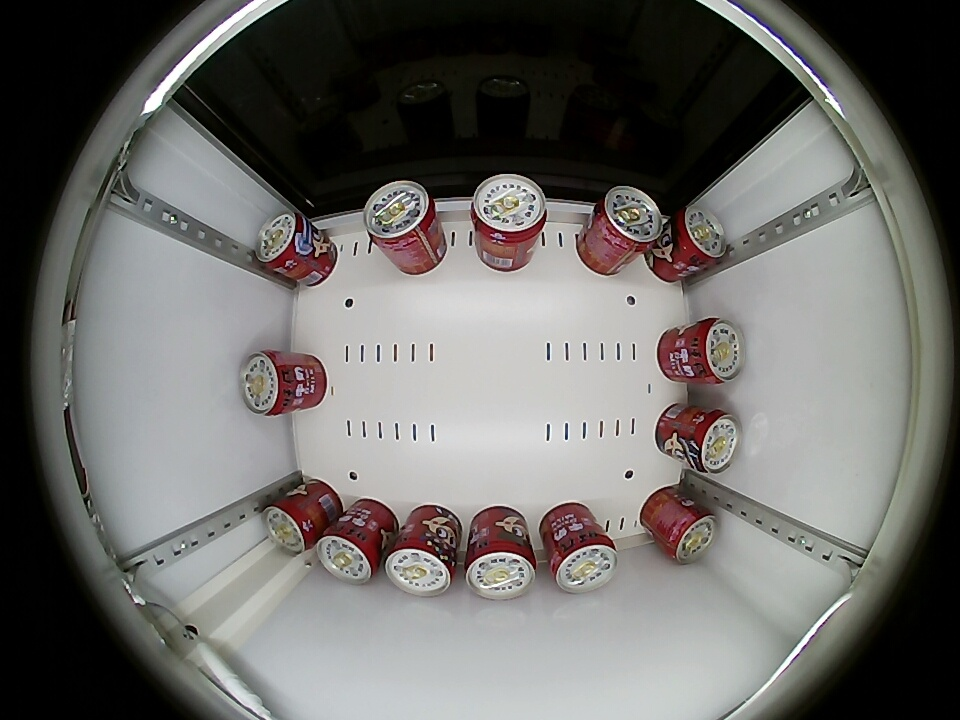wangzainiunai: (470, 173, 548, 259), (363, 180, 444, 259), (585, 185, 663, 264), (465, 528, 537, 600), (384, 527, 459, 596), (546, 526, 619, 594), (315, 517, 384, 585), (664, 203, 727, 275), (261, 489, 326, 556), (657, 495, 719, 564), (679, 408, 741, 475), (686, 316, 745, 386), (254, 211, 315, 277), (240, 350, 298, 418)
